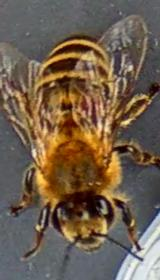varroa_mite: (79, 86, 107, 117)
